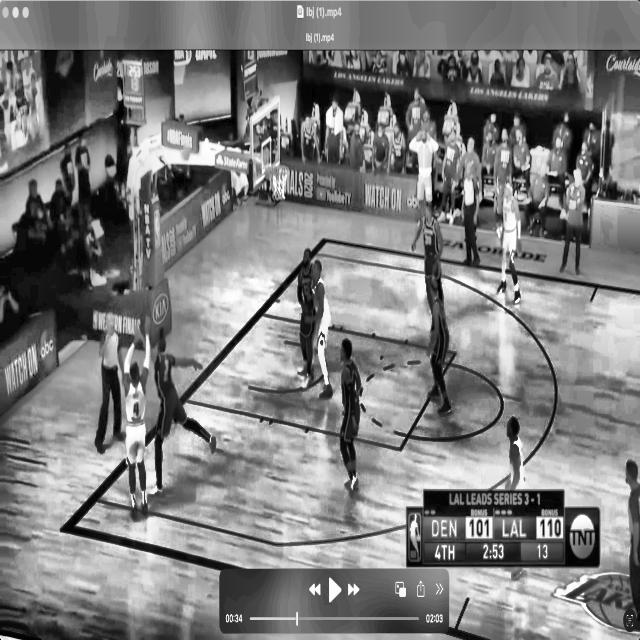Basketball: (179, 144, 191, 160)
